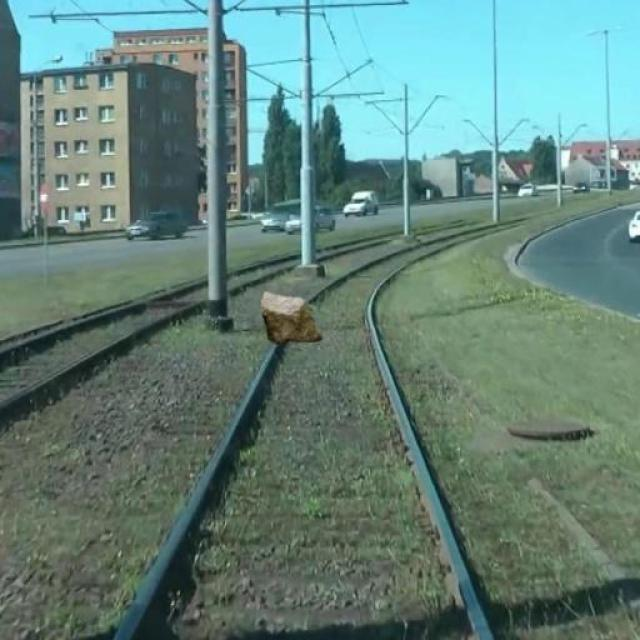Stone: (257, 292, 334, 346)
